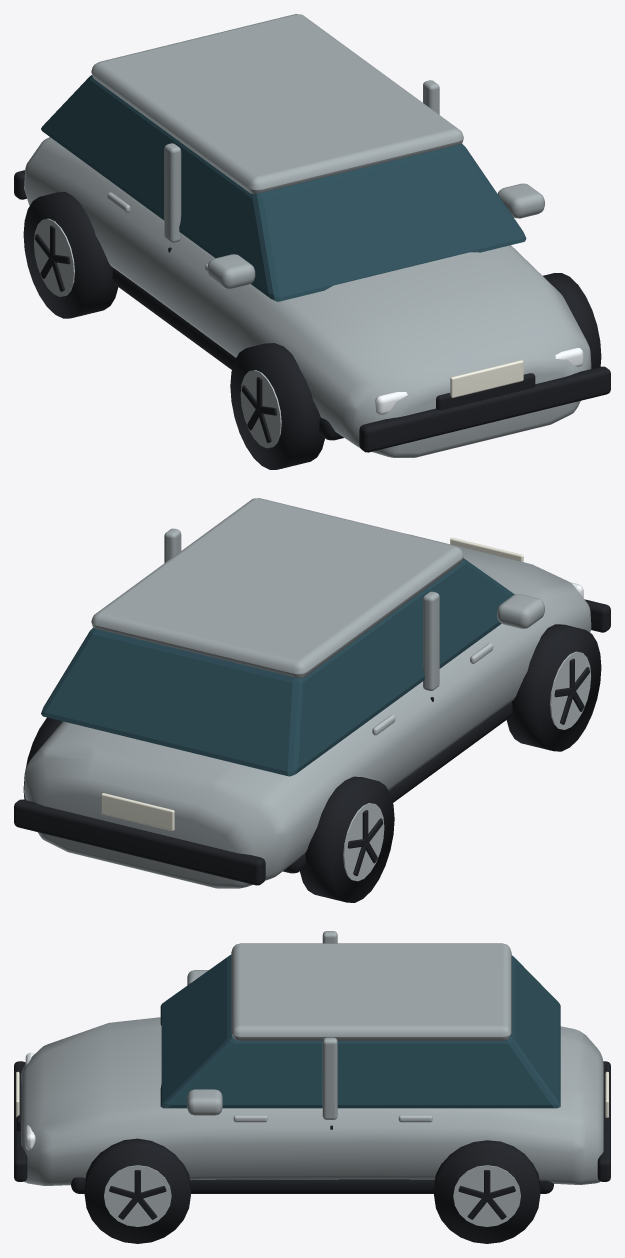
File: hatchback.glb
3 views of the same model, one above another, from view 1: azimuth 30°, elevation 25°; view 2: azimuth 150°, elevation 25°; view 3: azimuth 270°, elevation 25° (orthographic). The views are drawn at different scales.
Visible parts, largest first — view 1: BodyPaint.002, Glass.002, Rubber.002, Alloy.002, Road paint, Headlights.002; view 2: BodyPaint.002, Glass.002, Rubber.002, Alloy.002, Road paint; view 3: BodyPaint.002, Glass.002, Rubber.002, Alloy.002.
Boxes of the visible parts, <box> form: BodyPaint.002: <box>24,14,591,457</box>; Glass.002: <box>41,75,526,301</box>; Rubber.002: <box>14,170,610,469</box>; Alloy.002: <box>33,192,281,448</box>; Road paint: <box>450,360,523,397</box>; Headlights.002: <box>375,347,583,414</box>; BodyPaint.002: <box>24,498,591,888</box>; Glass.002: <box>41,558,514,776</box>; Rubber.002: <box>14,599,610,902</box>; Alloy.002: <box>343,643,591,881</box>; Road paint: <box>101,537,523,830</box>; BodyPaint.002: <box>21,931,603,1185</box>; Glass.002: <box>160,955,560,1108</box>; Rubber.002: <box>14,1061,610,1243</box>; Alloy.002: <box>104,1115,520,1226</box>.
Bounding box in the file's own units: 2.14 × 1.46 × 4.05.
